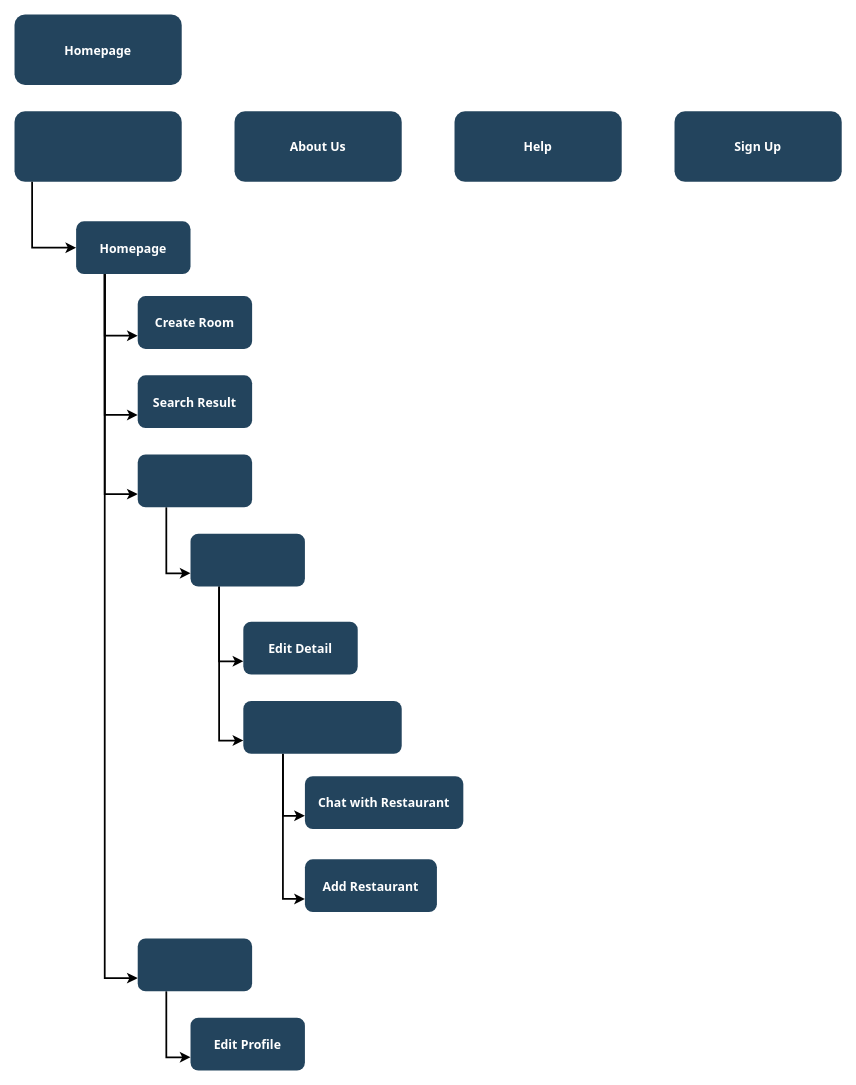
This 856x1085 diagram has some shape labels left out. The shapes that lost their labels are listed below. From the top down, each one's box as (x1, y1, x2, y2) in pixels, then its label:
(14, 111, 181, 181): Login
(137, 454, 252, 507): Chat Detail
(190, 533, 304, 586): Chat
(243, 700, 401, 753): Search Restaurant
(137, 938, 252, 991): My Profile
